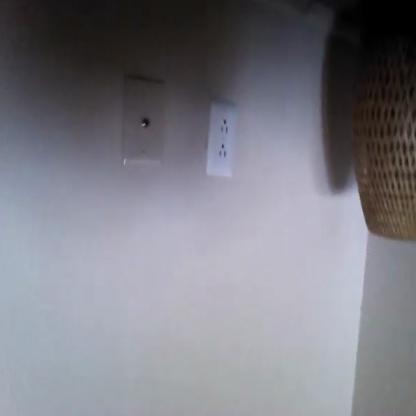OUTLET: (206, 102, 238, 176)
